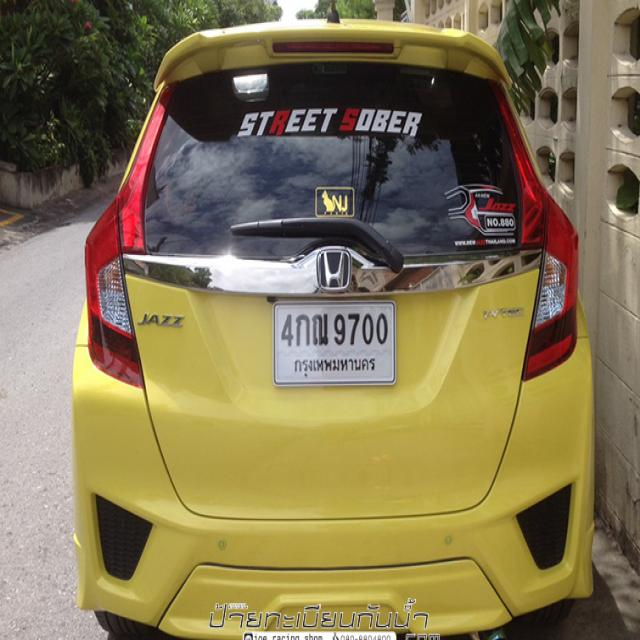license_plate: (270, 296, 396, 388)
